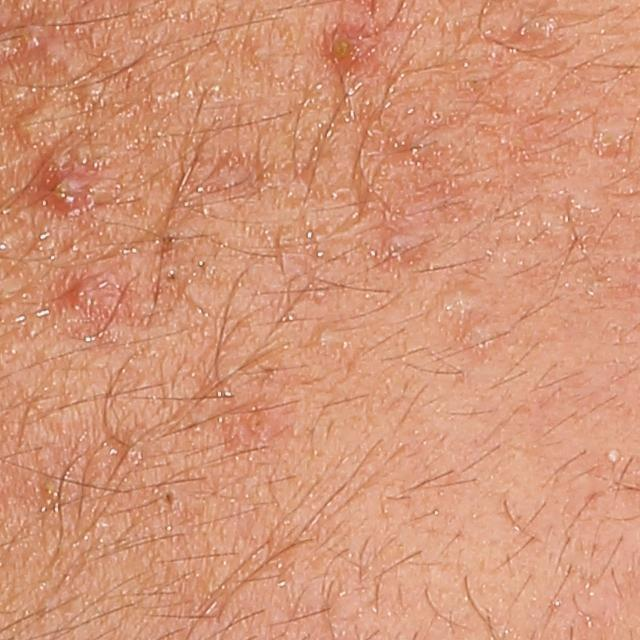comedo: (216, 401, 284, 460), (55, 38, 111, 100), (270, 152, 318, 200), (18, 103, 69, 148), (207, 152, 255, 197), (433, 281, 480, 325), (383, 232, 425, 268), (307, 327, 344, 354), (158, 264, 187, 288), (157, 485, 184, 510), (465, 325, 490, 350), (246, 41, 267, 60)
papule: (327, 21, 374, 71), (63, 272, 116, 314)
